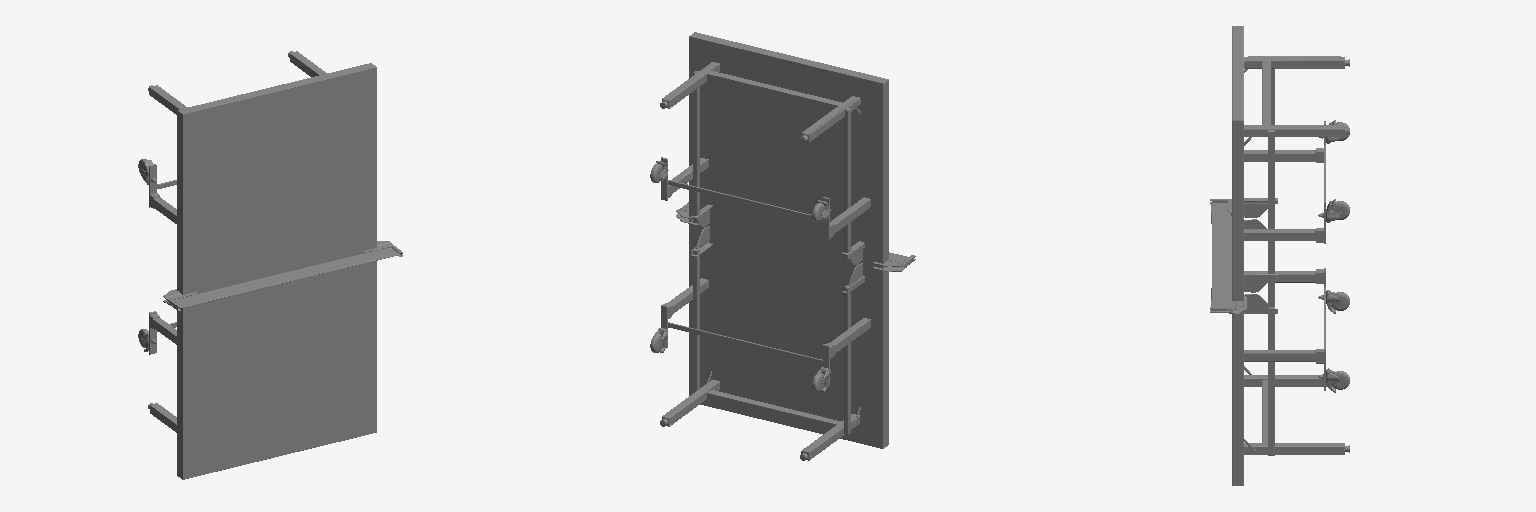
Rendered from ping_pong_table.obj.
The picture shows the model from 3 angles: view 1: azimuth 30°, elevation 25°; view 2: azimuth 150°, elevation 25°; view 3: azimuth 270°, elevation 25°; orthographic projection.
Parts seen in each view (by area): view 1: Rectangle004; view 2: Rectangle004; view 3: Rectangle004.
Boxes of the visible parts, <box> form: Rectangle004: <box>138,51,402,479</box>; Rectangle004: <box>650,32,915,460</box>; Rectangle004: <box>1210,26,1349,485</box>.
Size of the model in its own units: 179 by 276 by 96.42.